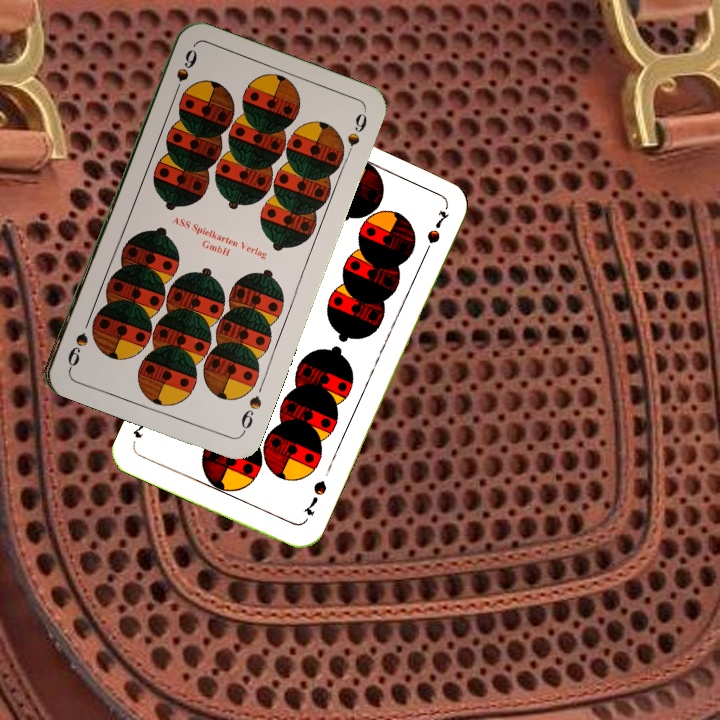S7: (299, 476, 330, 518)
S9: (169, 45, 200, 101), (237, 391, 264, 438)
